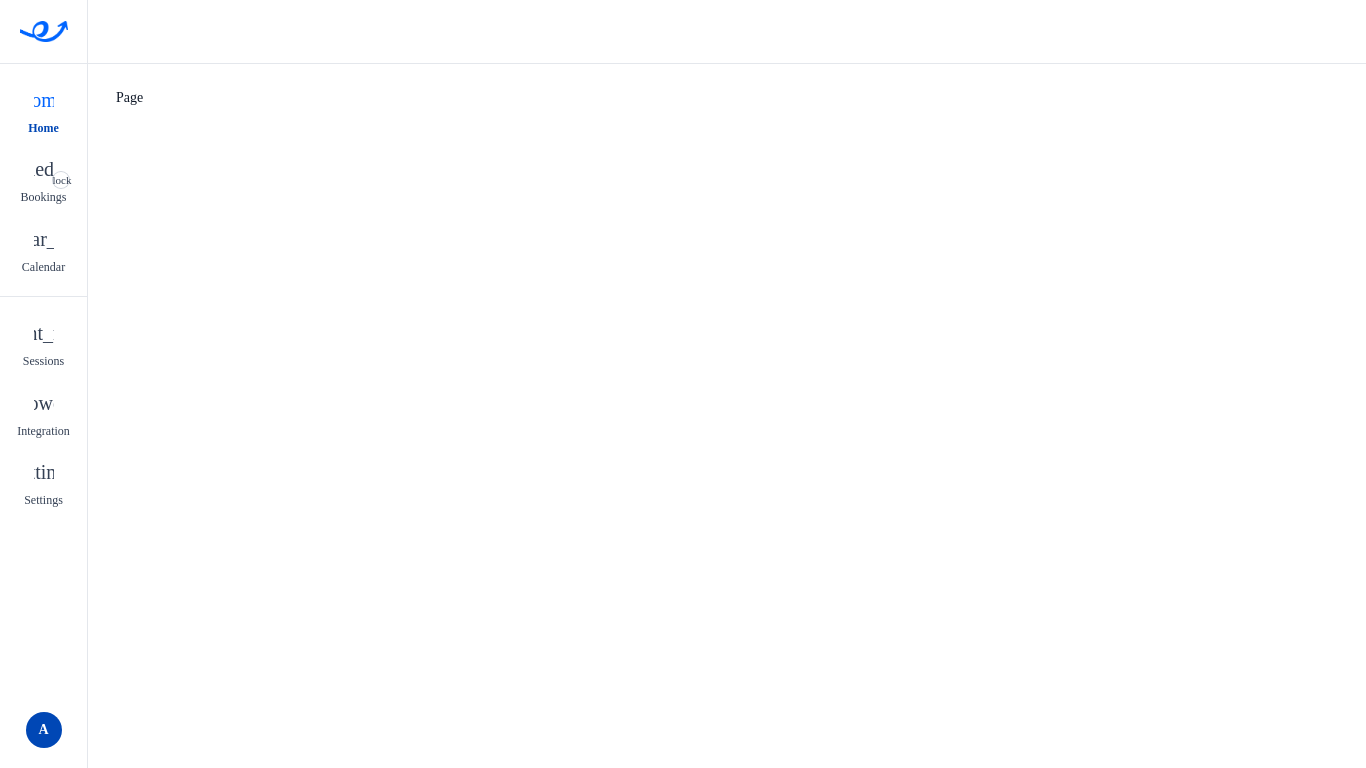
Test case: AppShell: the setup lock (AppShell.dc.html setupLock) › mentorReview: Bookings locked with its own words; Home opens the application
The width and height of the screenshot is (1366, 768).
Click the button with aria-label "Bookings, opens once you’re approved": (44, 180) [6,149,82,211]
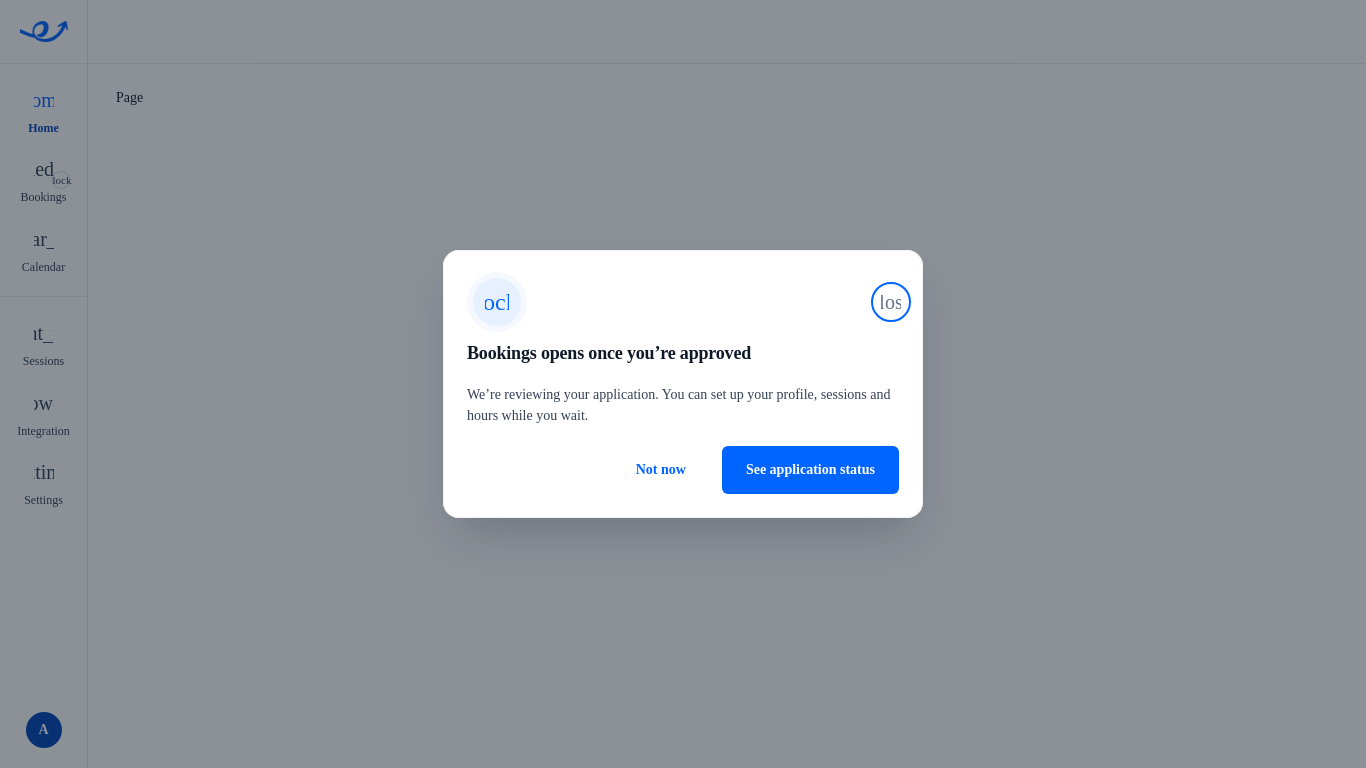
Expected: the dialog "Bookings opens once you’re approved" shows "We’re reviewing your application. You can set up your profile, sessions and hours while you wait.", [467,387,890,423]
